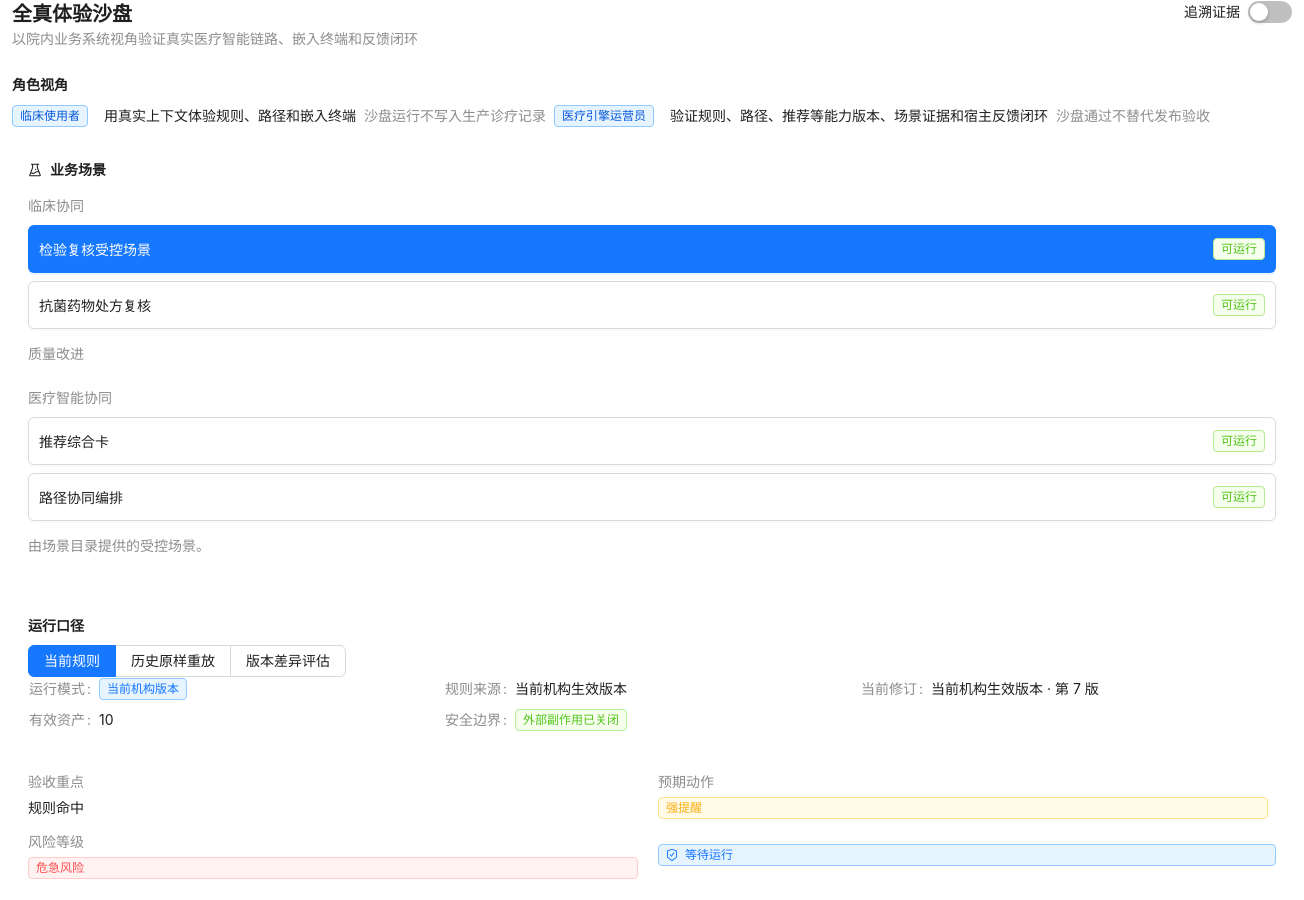
Scenario: SandboxHost › uses hospital-facing collaboration wording for orchestration scenarios
The width and height of the screenshot is (1304, 900).
Click the button "推荐综合卡 可运行": (74, 442) [28,417,1276,465]
(page scrolled)
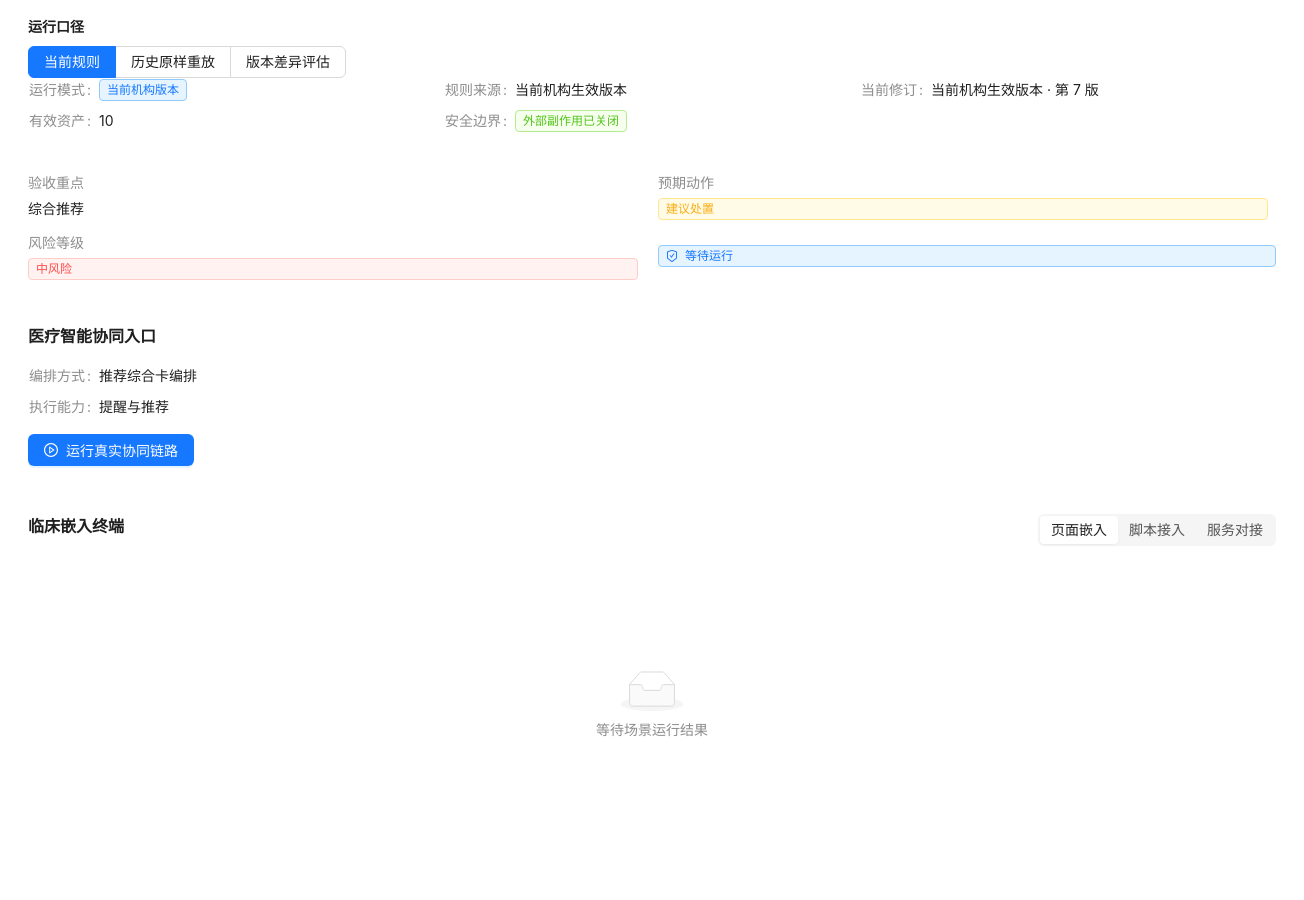
Expected: the heading "医疗智能协同入口" is shown, [28,326,156,346]
Expected: the button "运行真实协同链路" is shown, [28,434,194,466]
